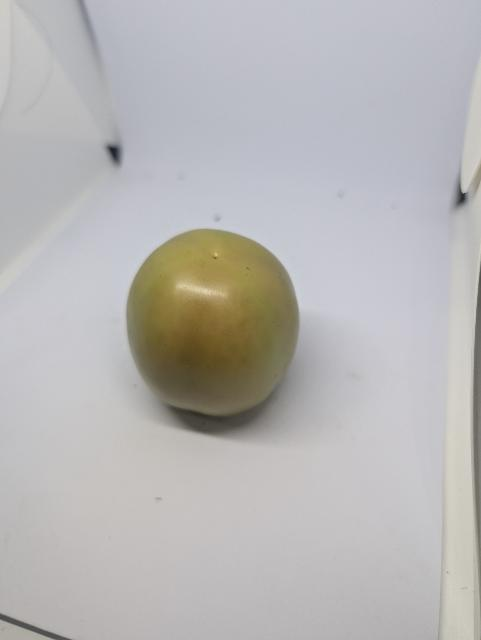breaker: (123, 225, 302, 419)
